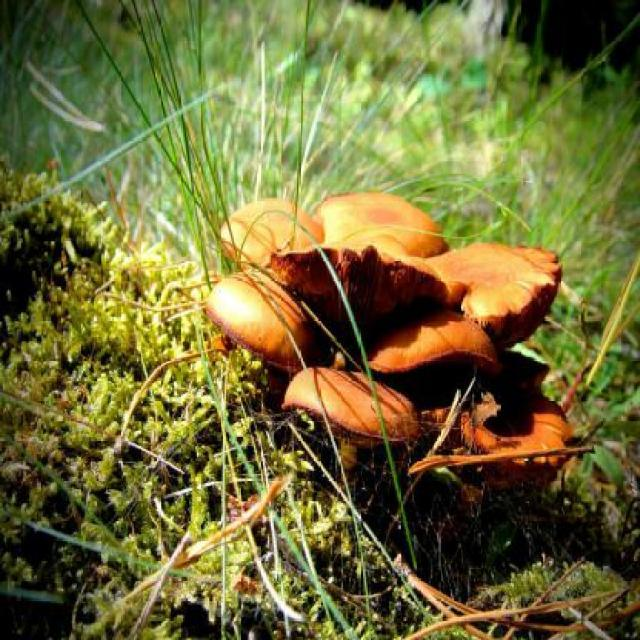Mushroom: (172, 162, 566, 520)
